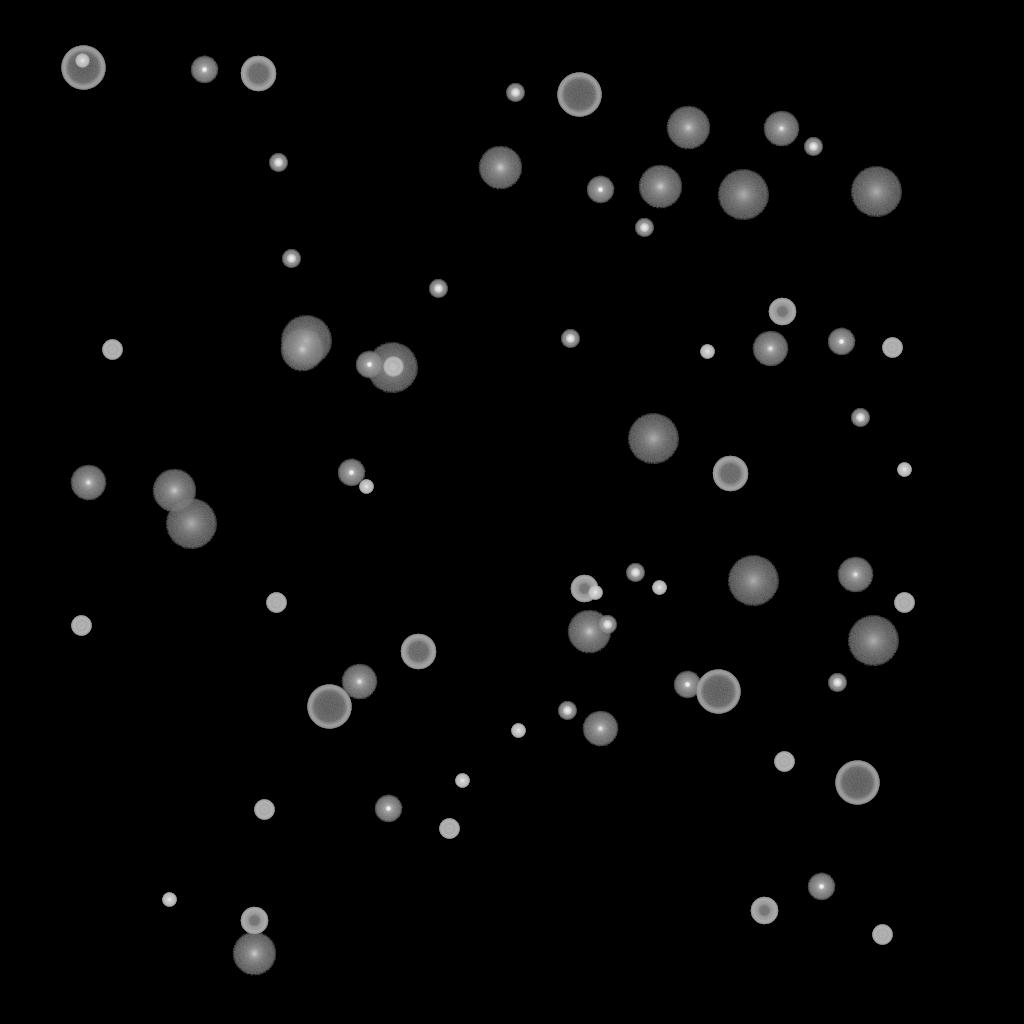depth:-10: (586, 176, 614, 204), (190, 56, 218, 84), (355, 351, 383, 379), (374, 795, 402, 823), (673, 671, 701, 699), (337, 459, 365, 487), (827, 328, 855, 356), (807, 873, 835, 901)
depth:-20: (269, 154, 287, 172), (828, 674, 846, 692), (561, 330, 579, 348), (558, 702, 576, 720), (635, 219, 653, 237), (851, 409, 869, 427), (598, 616, 616, 634), (506, 84, 524, 102), (429, 280, 447, 298), (626, 564, 644, 582), (804, 138, 822, 156), (282, 250, 300, 268)
depth:-30: (162, 893, 176, 907), (455, 774, 469, 788), (359, 480, 373, 494), (75, 54, 89, 68), (652, 581, 666, 595), (700, 345, 714, 359), (897, 463, 911, 477), (511, 724, 525, 738), (588, 586, 602, 600)
depth:-40: (882, 338, 902, 358), (102, 340, 122, 360), (774, 752, 794, 772), (872, 925, 892, 945), (439, 819, 459, 839), (71, 616, 91, 636), (266, 593, 286, 613), (383, 357, 403, 377), (254, 800, 274, 820), (894, 593, 914, 613)
depth:-50: (750, 897, 778, 925), (240, 907, 268, 935), (768, 298, 796, 326), (570, 575, 598, 603)
depth:-60: (240, 56, 276, 92), (400, 634, 436, 670), (712, 456, 748, 492)
depth:-70: (557, 73, 601, 117), (696, 670, 740, 714), (61, 46, 105, 90), (835, 761, 879, 805), (307, 685, 351, 729)
depth:0: (582, 711, 618, 747), (837, 557, 873, 593), (752, 331, 788, 367), (763, 111, 799, 147), (341, 664, 377, 700), (70, 465, 106, 501)
depth:10: (280, 328, 324, 372), (152, 469, 196, 513), (567, 610, 611, 654), (478, 146, 522, 190), (638, 165, 682, 209), (232, 932, 276, 976), (666, 106, 710, 150)
depth:20: (727, 556, 779, 606), (627, 414, 679, 464), (847, 616, 899, 666), (165, 499, 217, 549), (280, 316, 332, 366), (366, 343, 418, 393), (850, 167, 902, 217), (717, 170, 769, 220)
